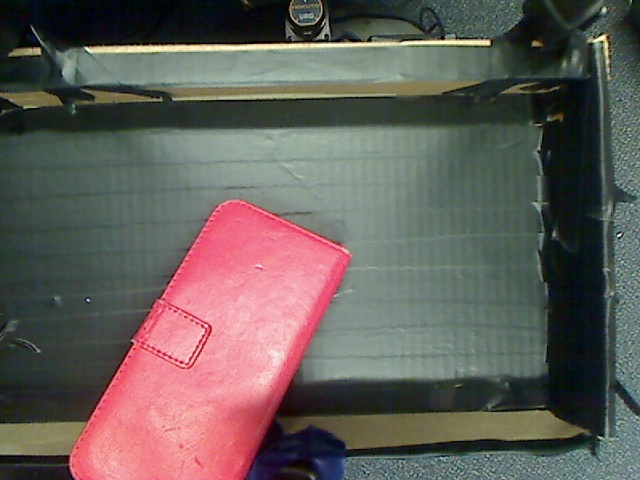phone: (54, 188, 363, 480)
